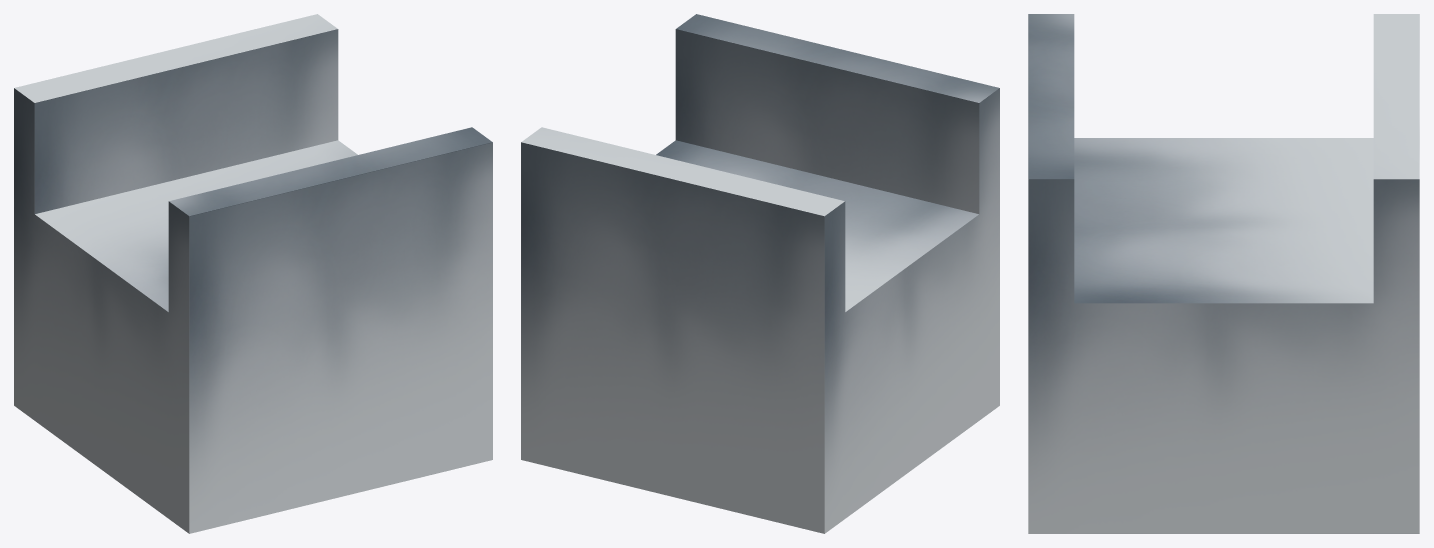
File: wall test.fbx
3 renders of one model, left to right at view 1: azimuth 30°, elevation 25°; view 2: azimuth 150°, elevation 25°; view 3: azimuth 270°, elevation 25°, orthographic. The views are drawn at different scales.
Parts seen in each view (by area): view 1: Plane006; view 2: Plane006; view 3: Plane006.
Boxes of the visible parts, bbox=[...] form: Plane006: bbox=[14, 14, 492, 533]; Plane006: bbox=[521, 14, 999, 533]; Plane006: bbox=[1028, 14, 1419, 533].
Size of the model in its own units: 39.37 by 39.37 by 39.37.
